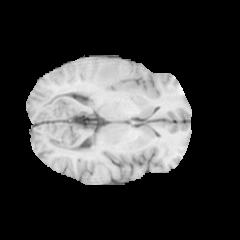glioma: (78, 57, 149, 91)
